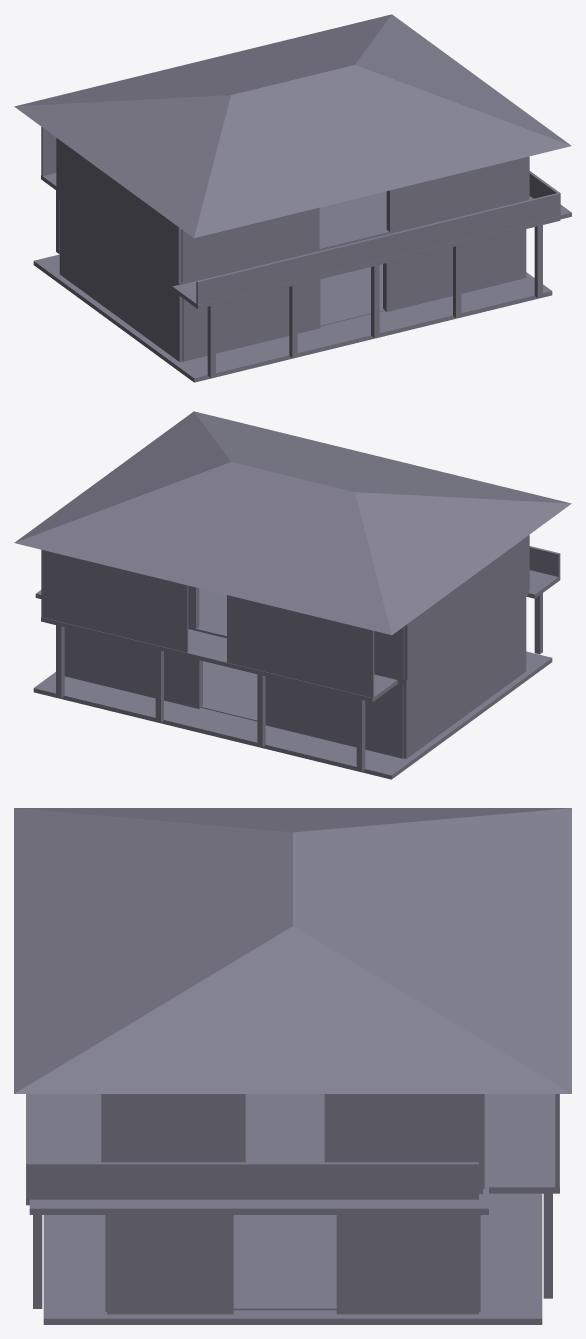
The model's file is pfl-palm-drive-house.glb.
The picture shows the model from 3 angles, top to bottom: view 1: azimuth 30°, elevation 25°; view 2: azimuth 150°, elevation 25°; view 3: azimuth 270°, elevation 25°; orthographic projection. The views are drawn at different scales.
Visible parts, largest first — view 1: PFL_417_Palm_Drive_House; view 2: PFL_417_Palm_Drive_House; view 3: PFL_417_Palm_Drive_House.
Part boxes in pixels (box(x1,y1,x2,y2)): PFL_417_Palm_Drive_House: box(14, 14, 571, 382); PFL_417_Palm_Drive_House: box(14, 411, 571, 779); PFL_417_Palm_Drive_House: box(14, 808, 571, 1324).
Bounding box in the file's own units: 17.32 × 8.65 × 14.1.
Materials: 1 (1 with a texture image).
